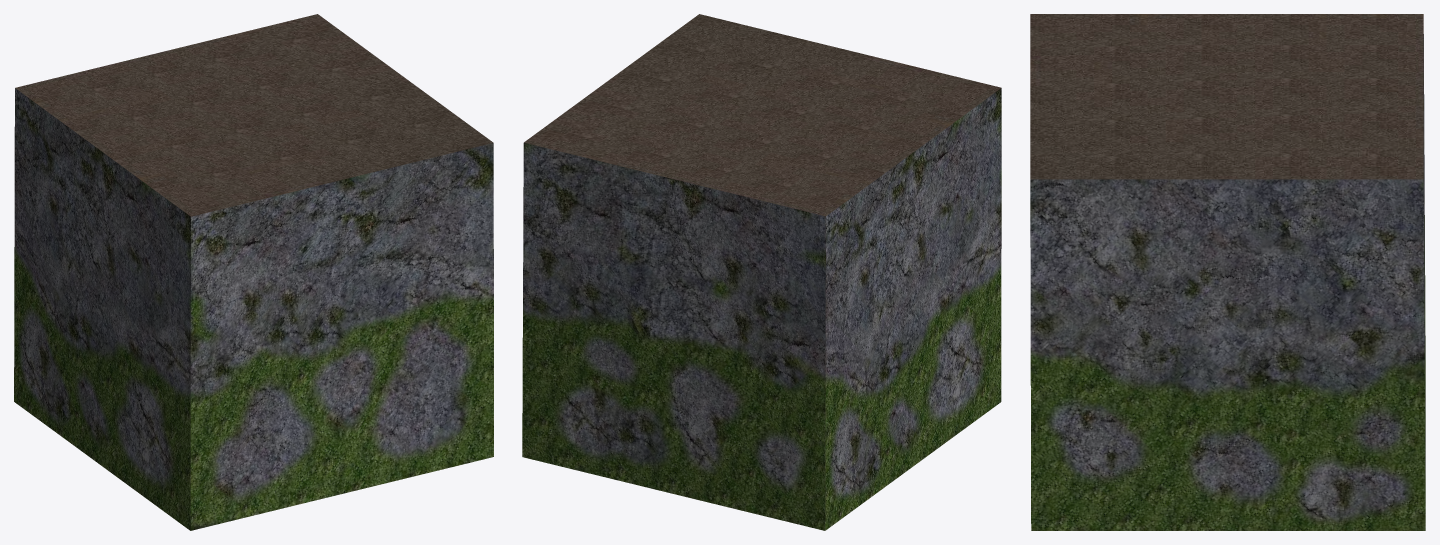
Rendered from StoneMossWall2.glb.
3 views of the same model, side by side, from view 1: azimuth 30°, elevation 25°; view 2: azimuth 150°, elevation 25°; view 3: azimuth 270°, elevation 25° (orthographic). The views are drawn at different scales.
Visible parts, largest first — view 1: Cube; view 2: Cube; view 3: Cube.
Part boxes in pixels (x1=…): Cube: x1=14, y1=14, x2=493, y2=530; Cube: x1=522, y1=14, x2=1001, y2=530; Cube: x1=1030, y1=14, x2=1425, y2=530.
Bounding box in the file's own units: 2.01 × 1.99 × 2.03.
Materials: 1 (1 with a texture image).
